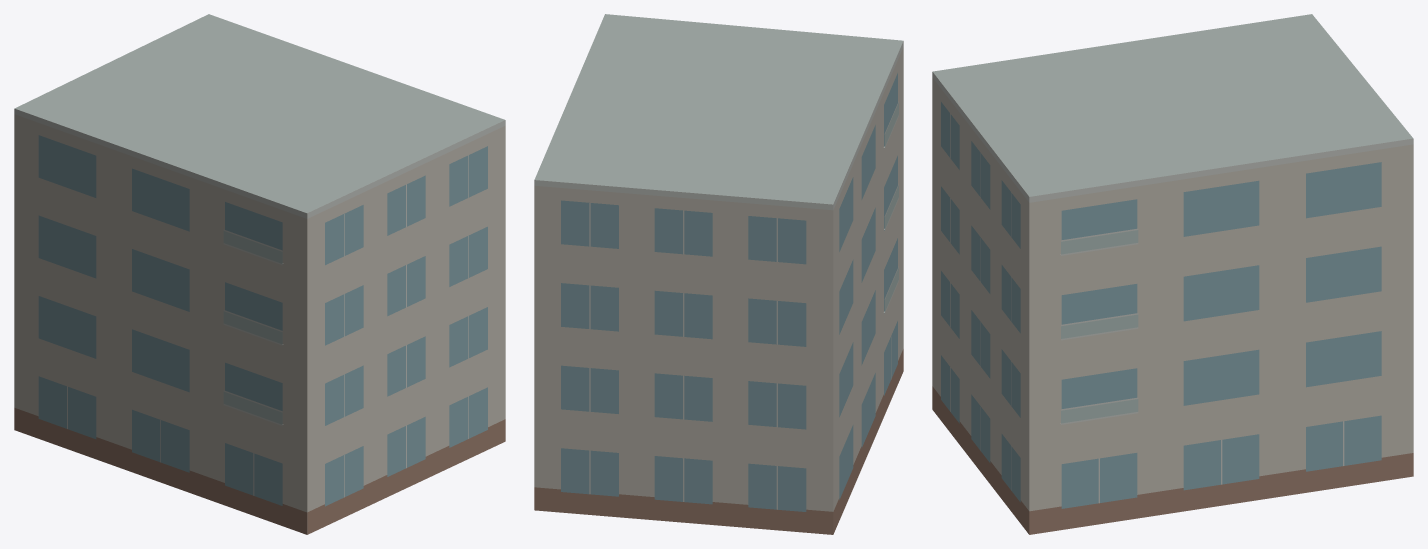
File: survey-upis-32976474.glb
3 renders of one model, left to right at view 1: azimuth 30°, elevation 25°; view 2: azimuth 150°, elevation 25°; view 3: azimuth 270°, elevation 25°, orthographic. The views are drawn at different scales.
Parts seen in each view (by area): view 1: survey-upis-32976474.tmp; view 2: survey-upis-32976474.tmp; view 3: survey-upis-32976474.tmp.
Boxes of the visible parts, x1=… form: survey-upis-32976474.tmp: x1=14, y1=14, x2=505, y2=534; survey-upis-32976474.tmp: x1=534, y1=14, x2=903, y2=534; survey-upis-32976474.tmp: x1=932, y1=14, x2=1413, y2=534.
Size of the model in its own units: 16.26 by 14 by 18.07.
